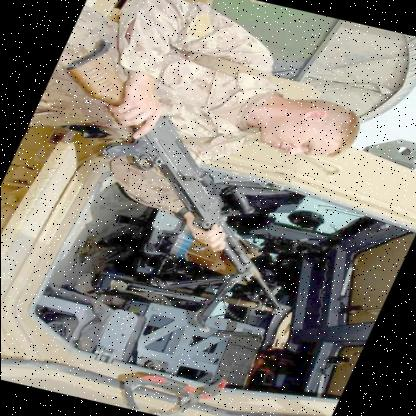rifle: (0, 96, 355, 318)
